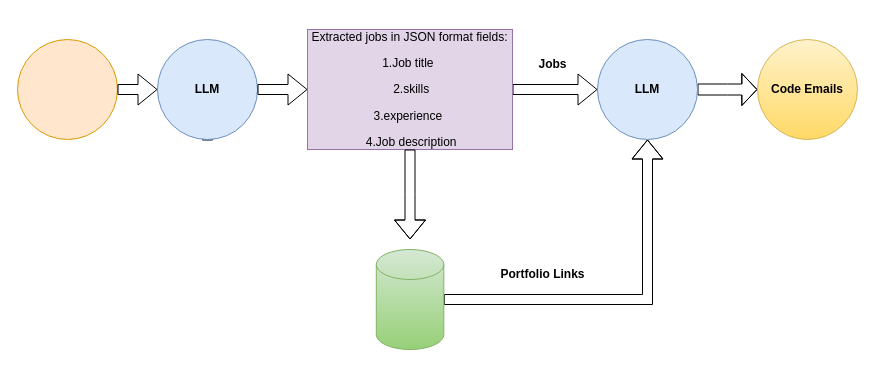
This 875x367 diagram has some shape labels left out. Here are the shapes that lost their labels. From the top down, the centre of each, then its label:
At (x=67, y=89): "Career's Page".
At (x=409, y=299): "Vector DB".
